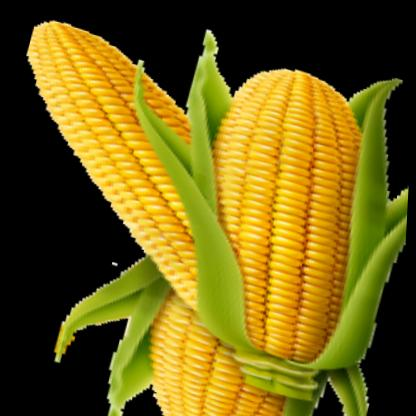---: (159, 32, 415, 377), (0, 10, 266, 316), (131, 284, 314, 416)
